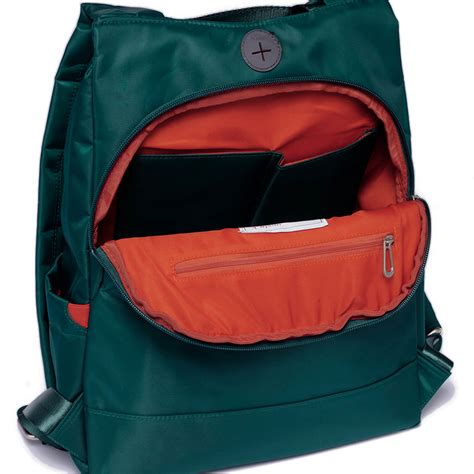nylon: (40, 3, 453, 474)
